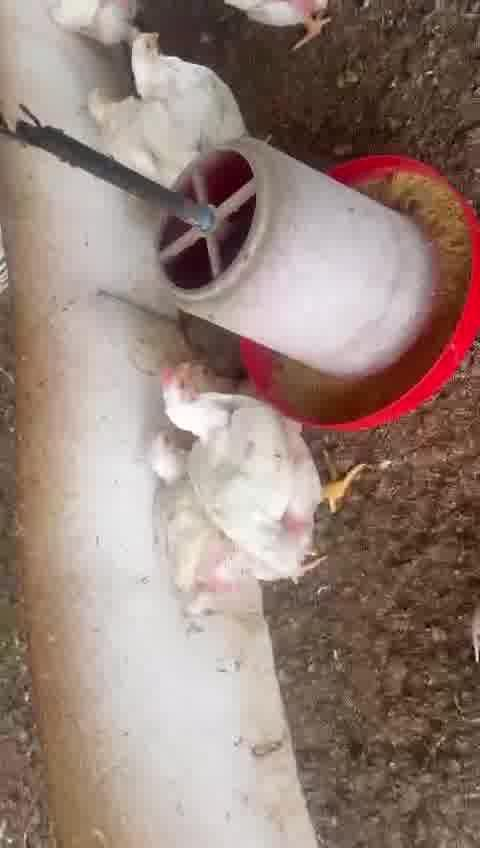AbNormal: (72, 82, 166, 189)
Normal: (161, 367, 364, 566), (138, 425, 238, 594), (131, 33, 254, 165)
